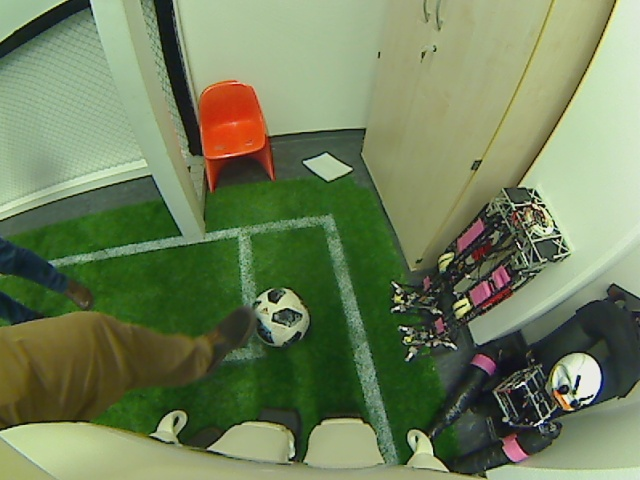ball: (251, 285, 309, 349)
